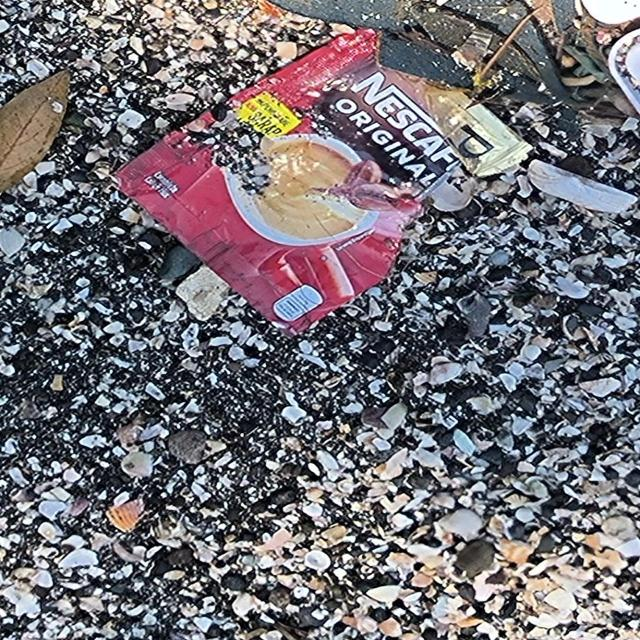plastic_waste: (114, 27, 462, 341)
